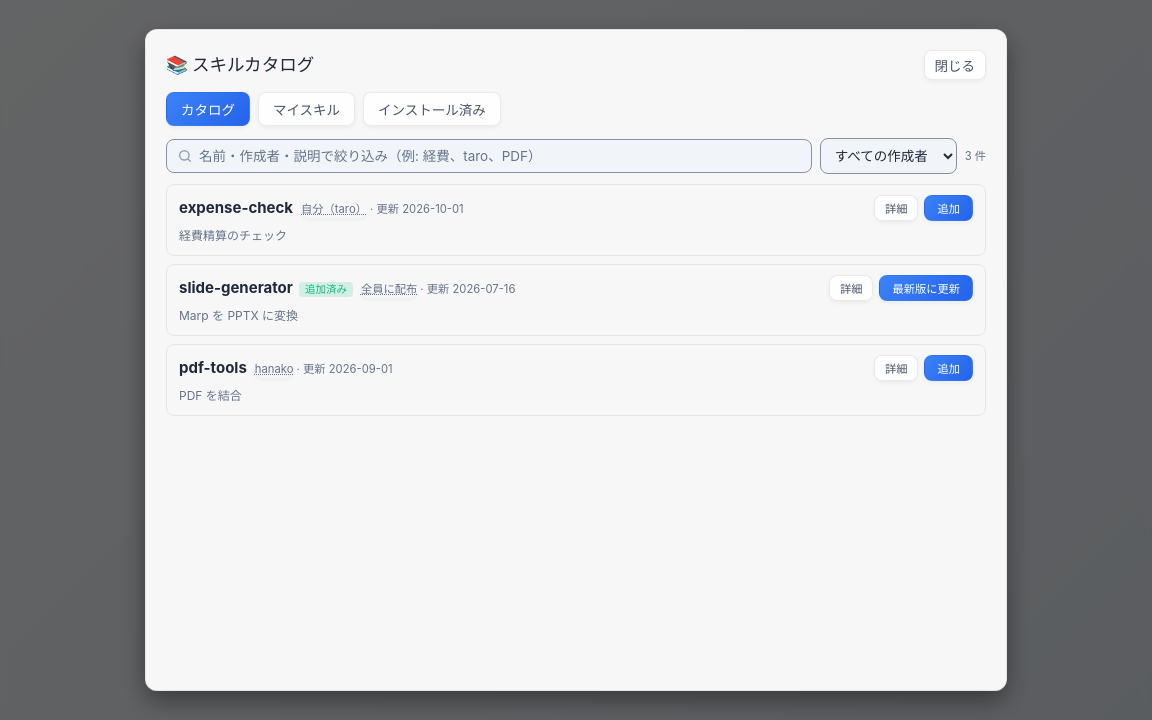
Test: tabs: マイスキル = yours only, インストール済み = added + built-in › empty マイスキル explains how to start
Expected: the text "expense-check" is shown, [179, 198, 293, 217]
Click the button "マイスキル" at (307, 109), box [258, 92, 355, 126]
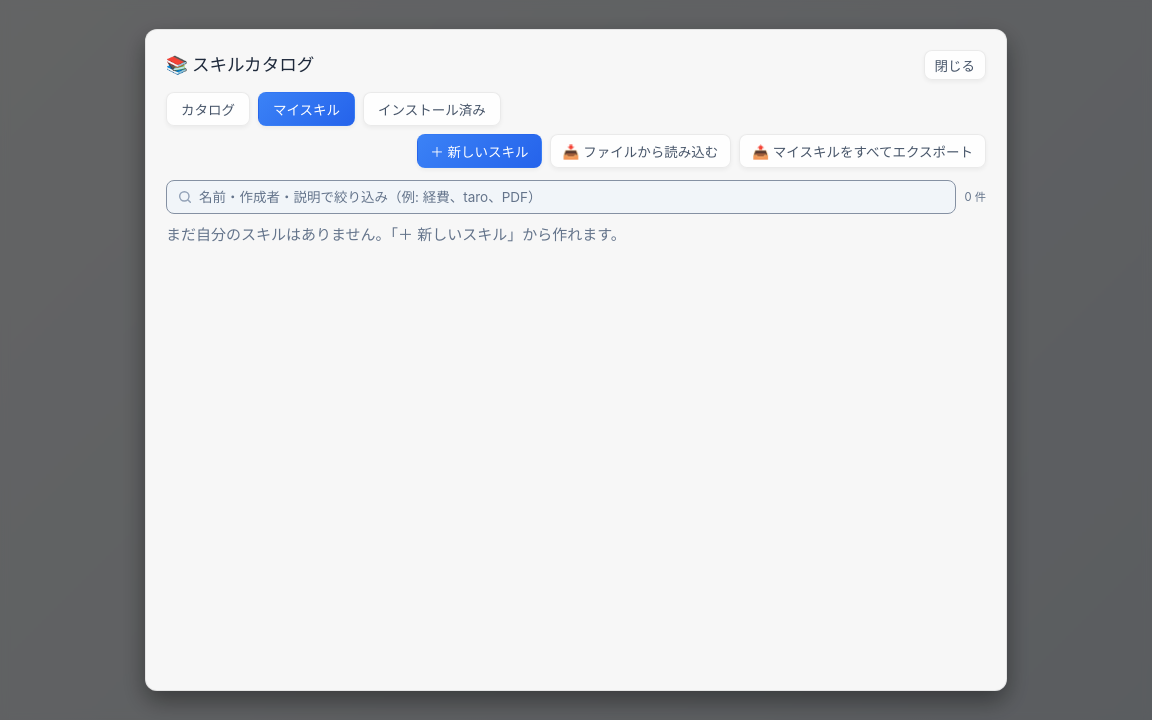
Now the text "まだ自分のスキルはありません。「＋ 新しいスキル」から作れます。" is shown, box [166, 225, 626, 244]
